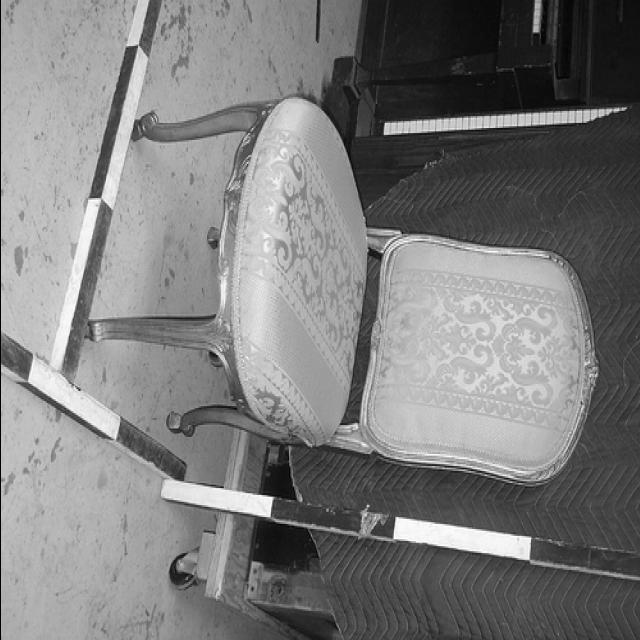chair: (84, 98, 598, 516)
